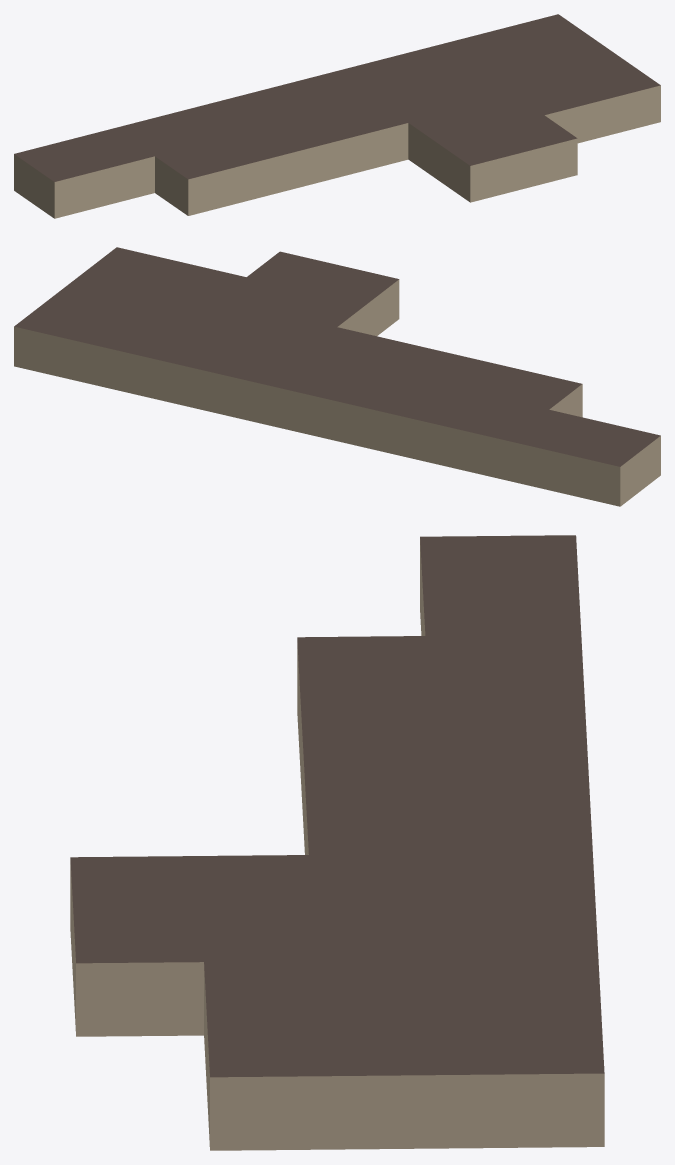
3 views of the same model, one above another, from view 1: azimuth 30°, elevation 25°; view 2: azimuth 150°, elevation 25°; view 3: azimuth 270°, elevation 25° (orthographic). The views are drawn at different scales.
Visible parts, largest first — view 1: HP-w408450629; view 2: HP-w408450629; view 3: HP-w408450629.
Part boxes in pixels (x1,y1,x2,y2): HP-w408450629: (14,14,660,218); HP-w408450629: (14,247,660,506); HP-w408450629: (70,535,604,1150).
Size of the model in its own units: 47.48 by 3 by 19.77.
